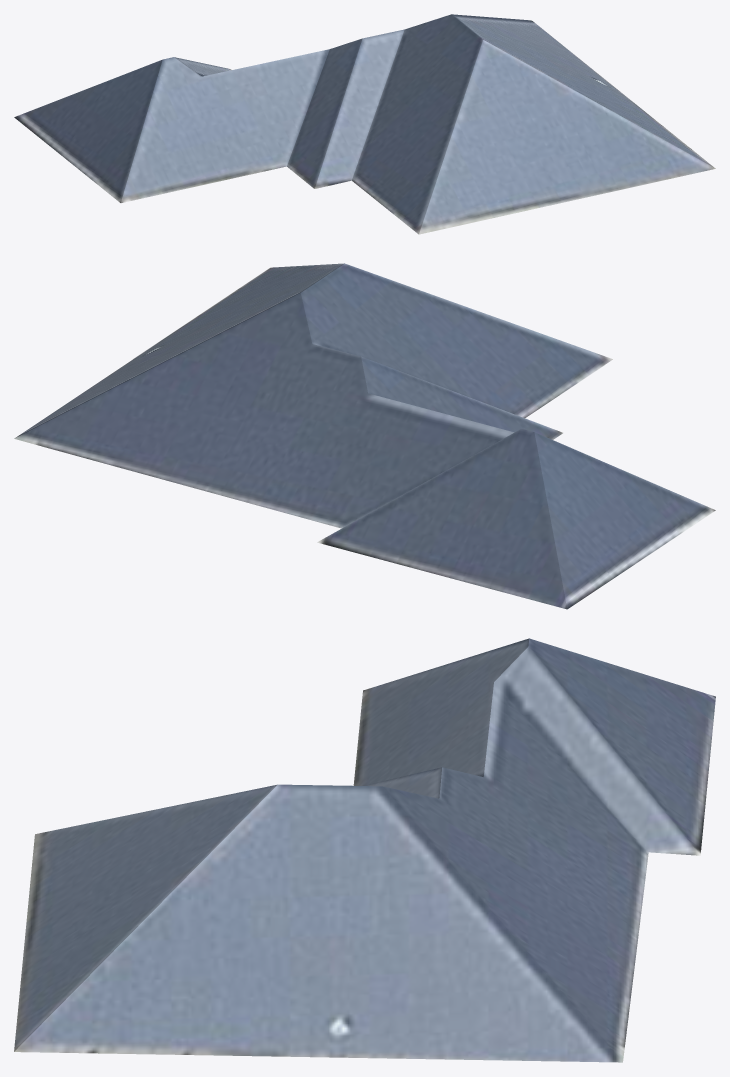
The model's file is CG10_500_042060_0021_roof.obj.
3 views of the same model, one above another, from view 1: azimuth 30°, elevation 25°; view 2: azimuth 150°, elevation 25°; view 3: azimuth 270°, elevation 25° (orthographic). The views are drawn at different scales.
Parts seen in each view (by area): view 1: CG10_500_042060_0021_roof; view 2: CG10_500_042060_0021_roof; view 3: CG10_500_042060_0021_roof.
Boxes of the visible parts, box(x1,y1,x2,y2) form: CG10_500_042060_0021_roof: box(14, 14, 715, 234); CG10_500_042060_0021_roof: box(14, 263, 715, 609); CG10_500_042060_0021_roof: box(14, 638, 715, 1062).
Bounding box in the file's own units: 356 × 70 × 284.
Materials: 1 (1 with a texture image).
